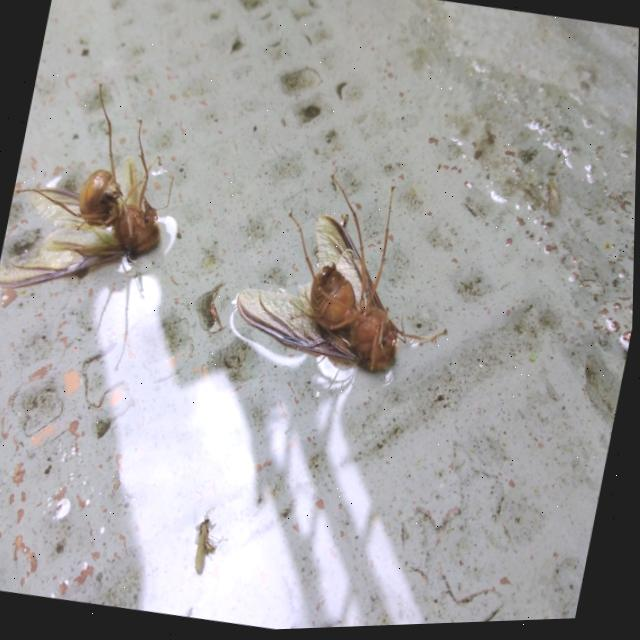Dead-Male-Alate: (228, 160, 476, 393), (0, 69, 193, 314)
